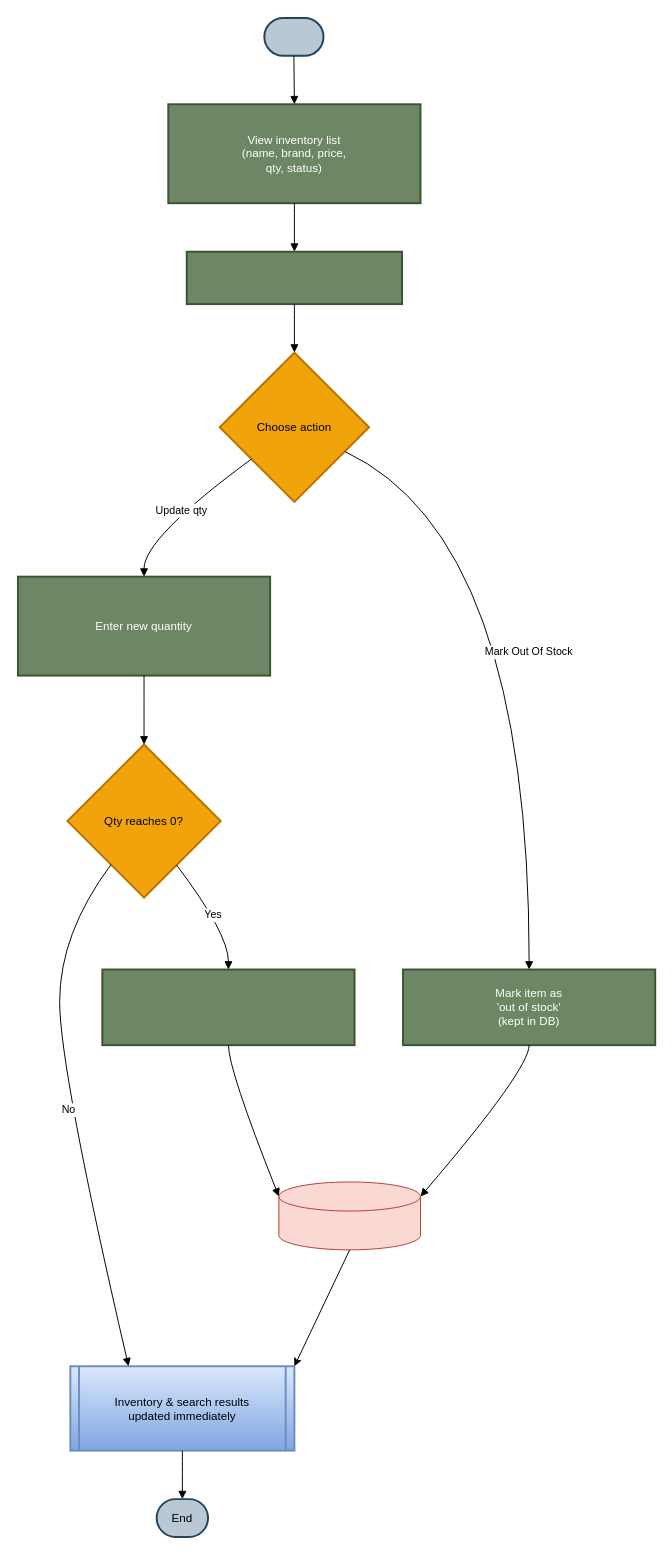
Some shapes in this 672 by 1554 pixel diagram are drawn without their labels. Each missing label, with the box of its shape:
Auto-hide from search results: (101, 968, 355, 1046)
Select item to manage: (185, 250, 403, 305)
Start: (263, 16, 324, 56)
Update Inventory DB: (278, 1181, 420, 1250)
